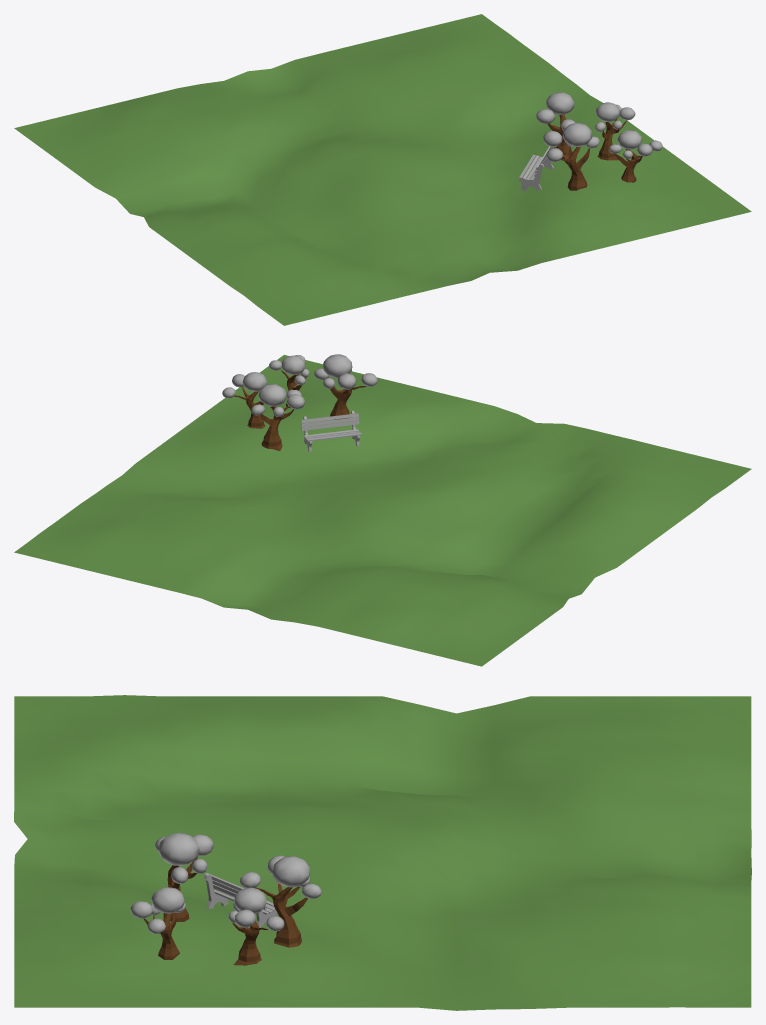
Rendered from park_test.fbx.
The picture shows the model from 3 angles, top to bottom: view 1: azimuth 30°, elevation 25°; view 2: azimuth 150°, elevation 25°; view 3: azimuth 270°, elevation 25°; orthographic projection. The views are drawn at different scales.
Parts seen in each view (by area): view 1: grass, Tree_5, Tree_8, Tree_6, Tree_7, bench1; view 2: grass, Tree_5, Tree_7, bench1, Tree_6, Tree_8; view 3: grass, Tree_7, Tree_5, Tree_6, Tree_8, bench1.
Part boxes in pixels (x1,y1,x2,y2): grass: (14,14,751,325); Tree_5: (543,123,599,190); Tree_8: (609,130,662,182); Tree_6: (595,102,635,160); Tree_7: (536,92,575,155); bench1: (519,146,556,190); grass: (14,355,751,666); Tree_5: (314,354,377,419); Tree_7: (251,384,304,450); bench1: (301,410,361,452); Tree_6: (222,372,267,428); Tree_8: (269,355,309,408); grass: (14,695,751,1010); Tree_7: (240,855,321,947); Tree_5: (155,833,213,921); Tree_6: (228,887,284,965); Tree_8: (130,887,185,959); bench1: (204,872,277,927).
Size of the model in its own units: 414 by 72.55 by 415.
